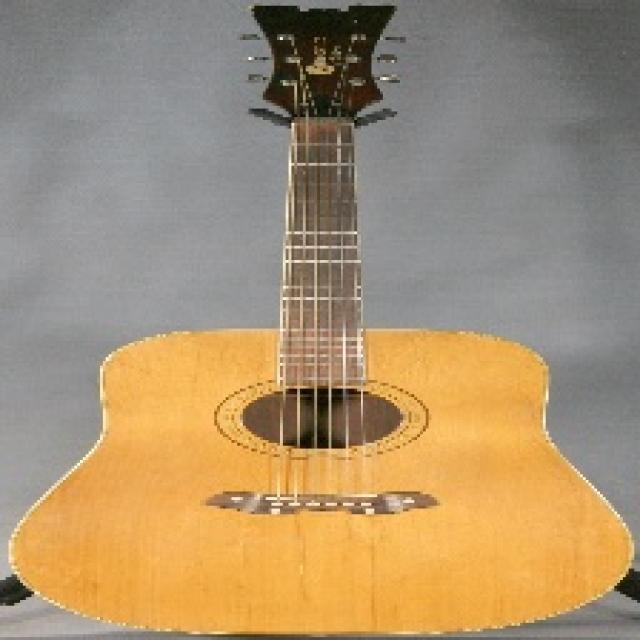acousticguitar: (11, 5, 630, 633)
